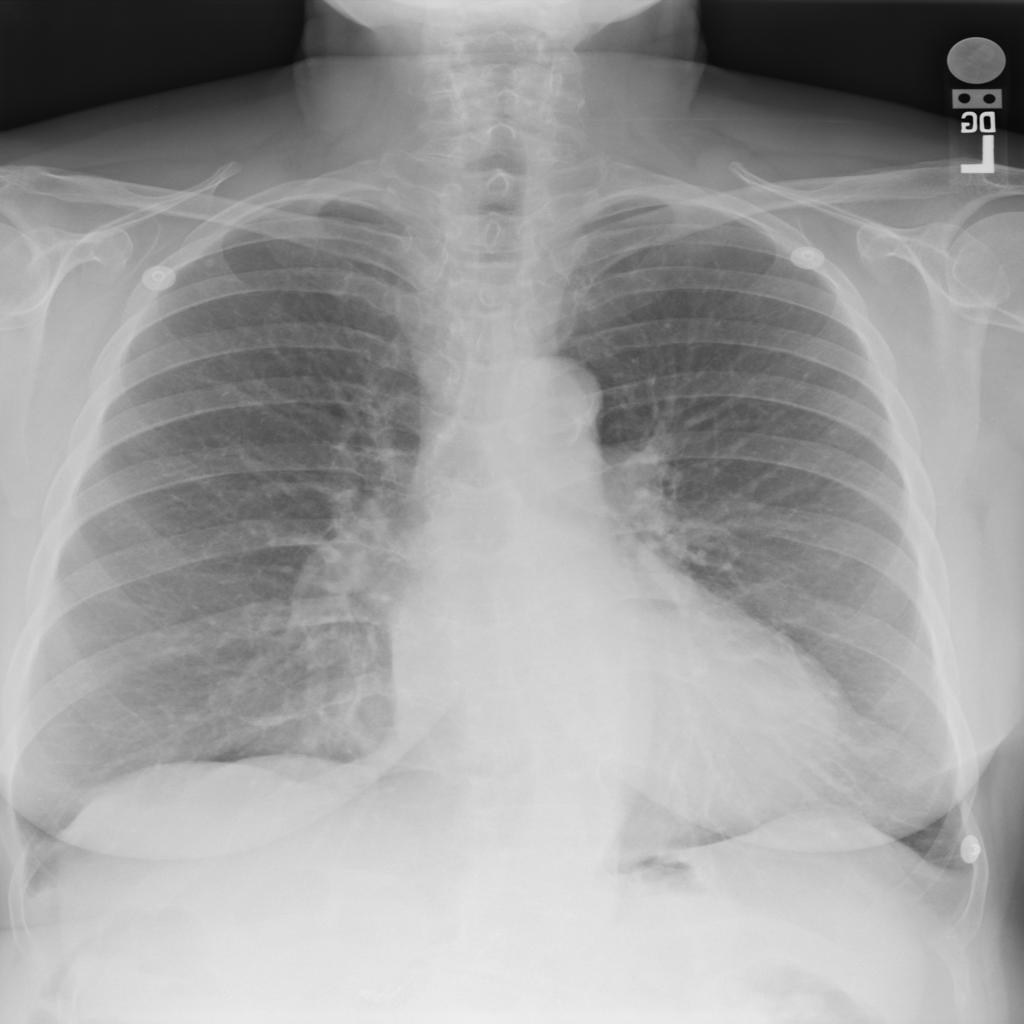nodule: (195, 249, 229, 274)
